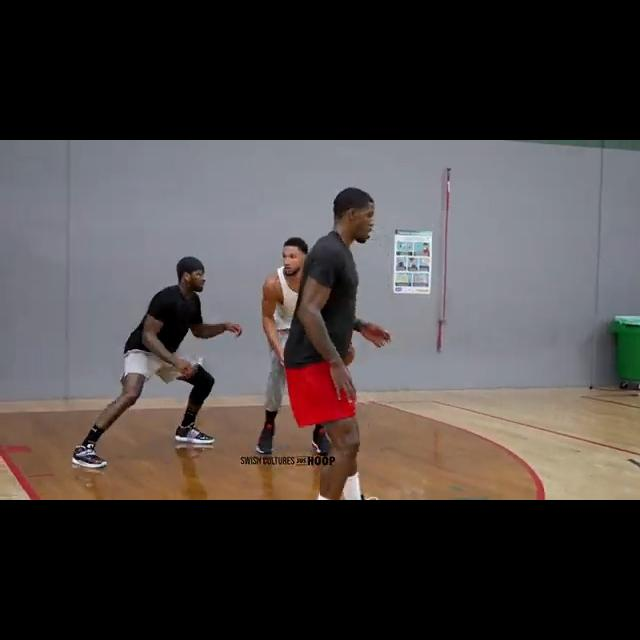person: (68, 255, 247, 473), (283, 182, 398, 500), (254, 236, 335, 458)
